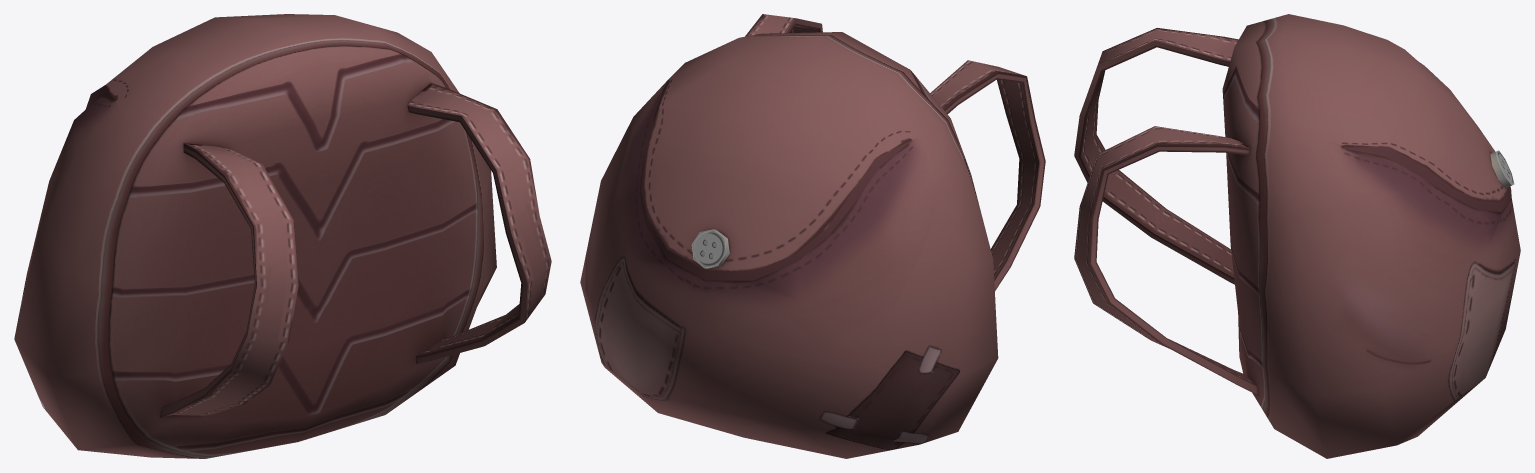
The model's file is bag.glb.
The picture shows the model from 3 angles, left to right: view 1: azimuth 30°, elevation 25°; view 2: azimuth 150°, elevation 25°; view 3: azimuth 270°, elevation 25°; orthographic projection. The views are drawn at different scales.
Parts seen in each view (by area): view 1: bag; view 2: bag; view 3: bag.
Boxes of the visible parts, x1,y1,x2,y2 form: bag: (14,14,551,458); bag: (580,14,1045,458); bag: (1074,14,1520,458).
Size of the model in its own units: 0.6109 by 0.5463 by 0.5984.
1 material, 1 textured.
